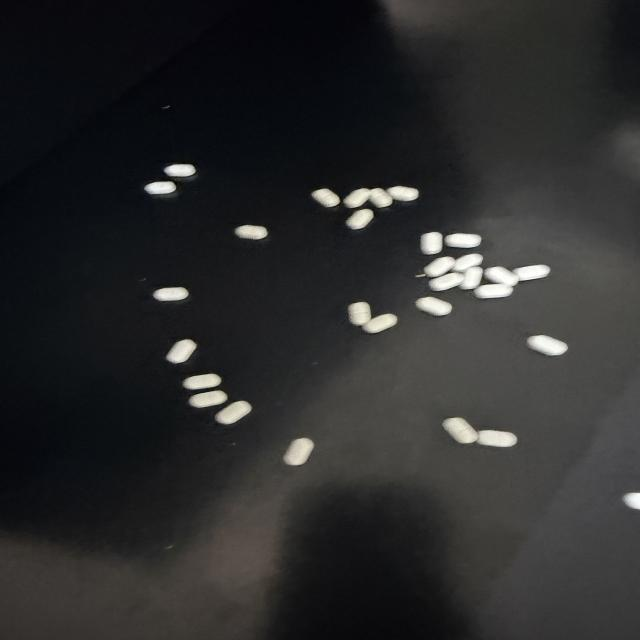pill: (443, 418, 478, 443), (283, 438, 314, 465), (215, 401, 251, 424), (527, 335, 568, 355), (166, 339, 196, 363), (416, 297, 452, 316), (477, 430, 517, 447), (484, 267, 519, 286), (363, 314, 397, 333), (189, 390, 227, 407), (429, 273, 464, 291), (424, 257, 455, 277), (346, 209, 374, 230), (183, 374, 221, 389), (513, 265, 550, 280), (348, 302, 371, 326), (474, 284, 513, 298), (343, 188, 369, 208), (152, 287, 188, 301), (445, 234, 481, 248), (312, 189, 340, 207), (453, 254, 482, 271), (460, 267, 482, 289), (235, 225, 267, 240), (387, 186, 418, 201), (421, 232, 442, 254), (369, 188, 393, 207), (144, 181, 176, 194), (164, 164, 195, 177), (622, 492, 640, 510), (415, 274, 425, 277)
